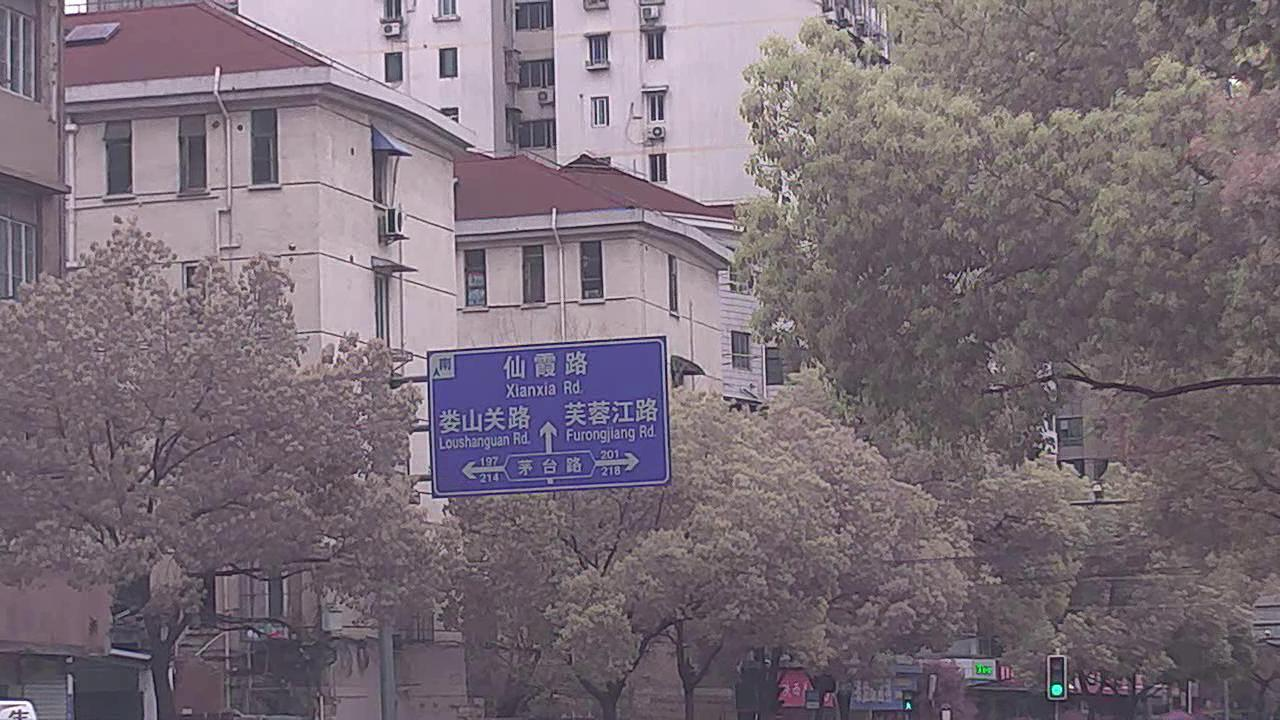traffic_light: (1050, 656, 1068, 702)
